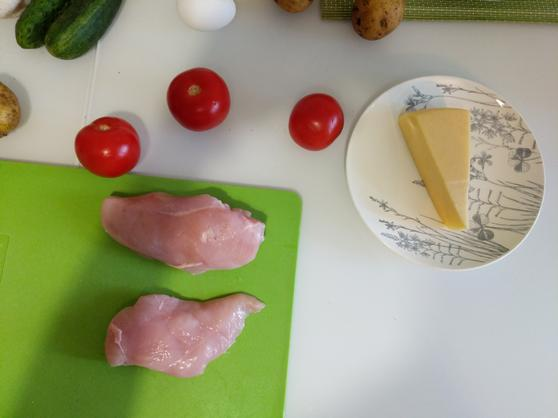cheese: (395, 102, 481, 236)
chicken_fillet: (103, 185, 284, 275), (100, 290, 272, 372)
cucumber: (52, 1, 127, 54), (11, 1, 56, 53)
egg: (174, 1, 244, 36)
potato: (353, 1, 403, 41)
tomato: (166, 66, 232, 130), (78, 115, 144, 178), (292, 91, 342, 151)
